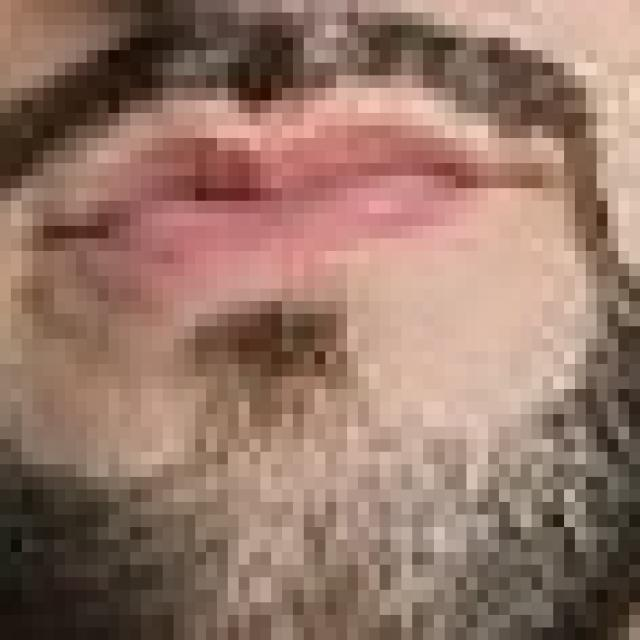closed-mouth: (11, 75, 554, 339)
